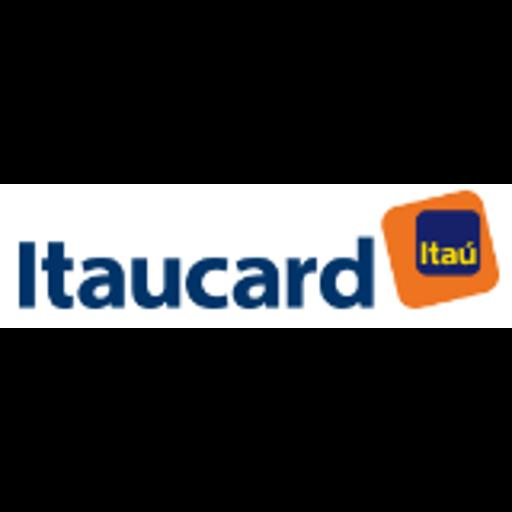Itau Unibanco S-A: (0, 184, 512, 328)
